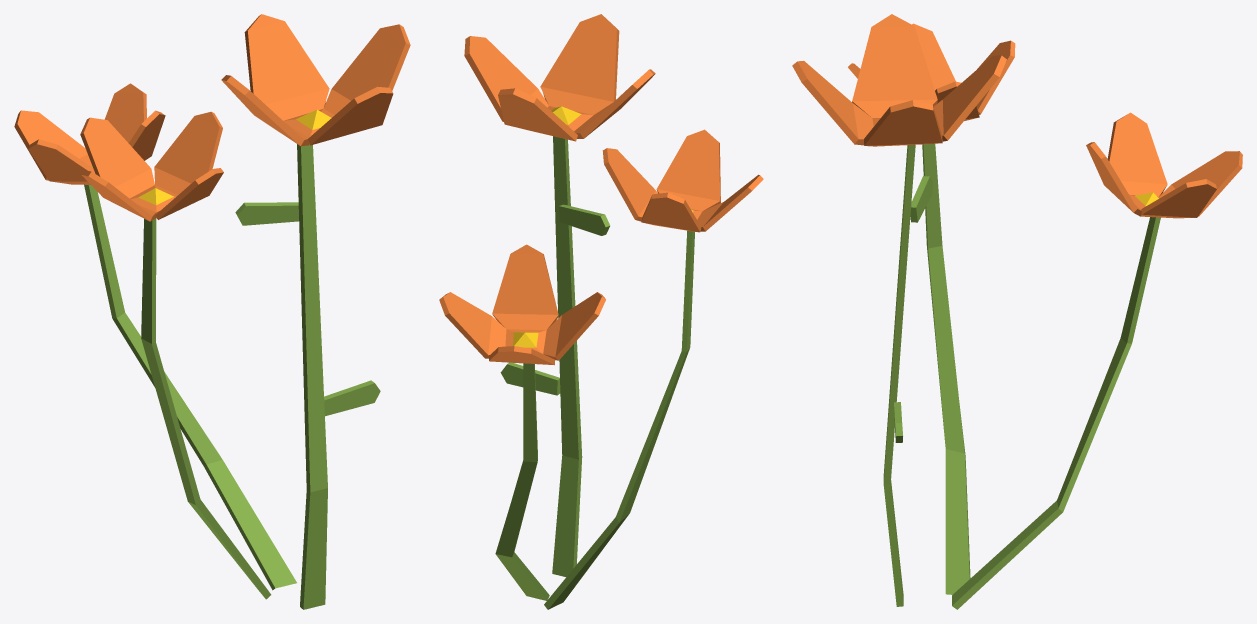
The model's file is flowers-a.glb.
3 renders of one model, left to right at view 1: azimuth 30°, elevation 25°; view 2: azimuth 150°, elevation 25°; view 3: azimuth 270°, elevation 25°, orthographic. The views are drawn at different scales.
Visible parts, largest first — view 1: Flowers; view 2: Flowers; view 3: Flowers.
Boxes of the visible parts, x1=… form: Flowers: x1=14, y1=14, x2=410, y2=609; Flowers: x1=439, y1=14, x2=763, y2=609; Flowers: x1=792, y1=14, x2=1242, y2=609.
Size of the model in its own units: 0.4133 by 0.7 by 0.5182.
